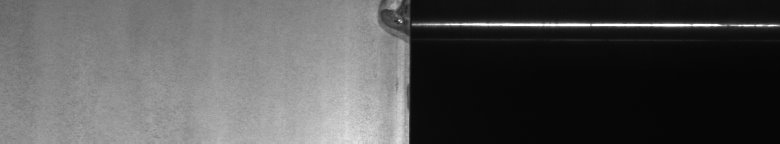hb: (371, 4, 400, 104)
